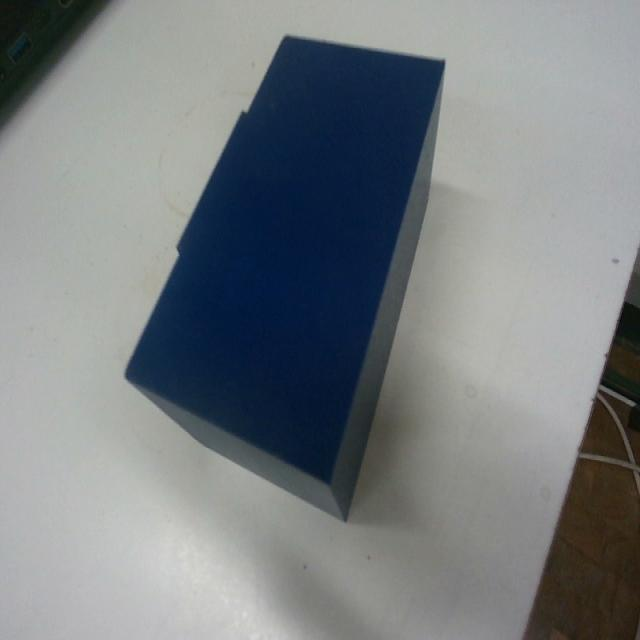Blue Cuboid: (123, 31, 446, 521)
